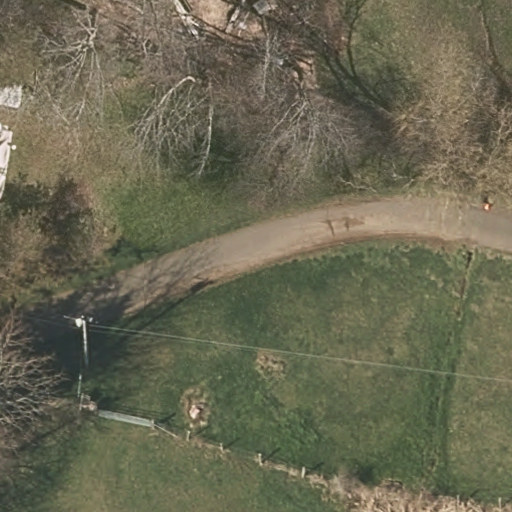DT: (71, 314, 94, 328)
